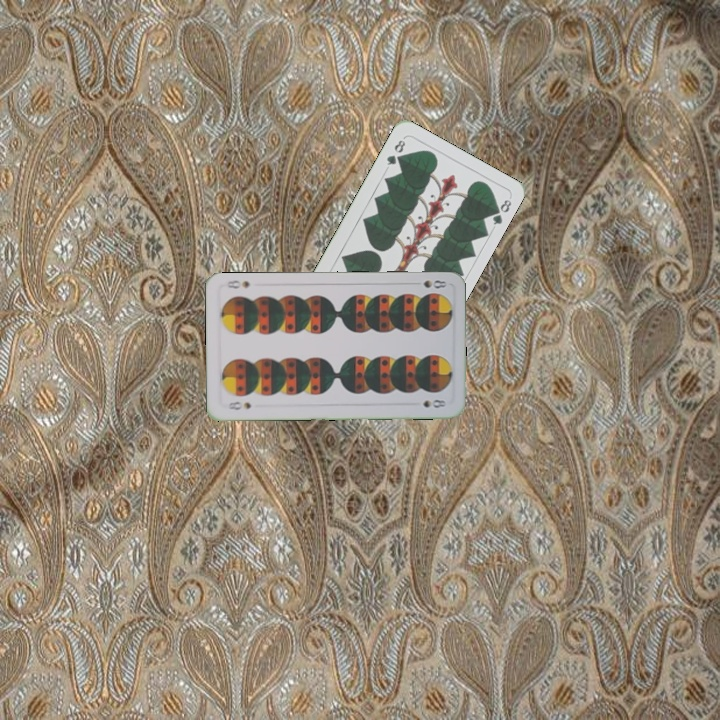G8: (383, 136, 408, 168)
S8: (224, 397, 254, 412), (420, 276, 449, 291)
